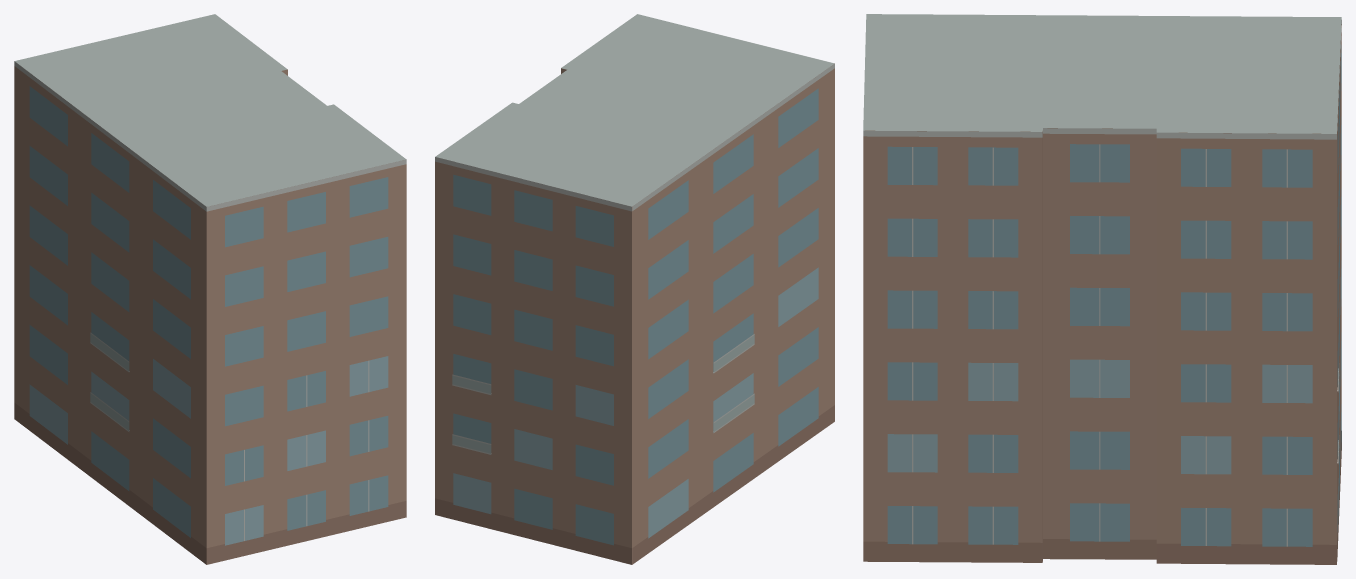
The model's file is survey-upis-32638930.glb.
The picture shows the model from 3 angles, left to right: view 1: azimuth 30°, elevation 25°; view 2: azimuth 150°, elevation 25°; view 3: azimuth 270°, elevation 25°; orthographic projection. The views are drawn at different scales.
Parts seen in each view (by area): view 1: survey-upis-32638930.tmp; view 2: survey-upis-32638930.tmp; view 3: survey-upis-32638930.tmp.
Boxes of the visible parts, x1,y1,x2,y2 form: survey-upis-32638930.tmp: (14,14,406,564); survey-upis-32638930.tmp: (435,14,834,564); survey-upis-32638930.tmp: (863,14,1341,564).
Size of the model in its own units: 10.93 by 18.3 by 18.43.
